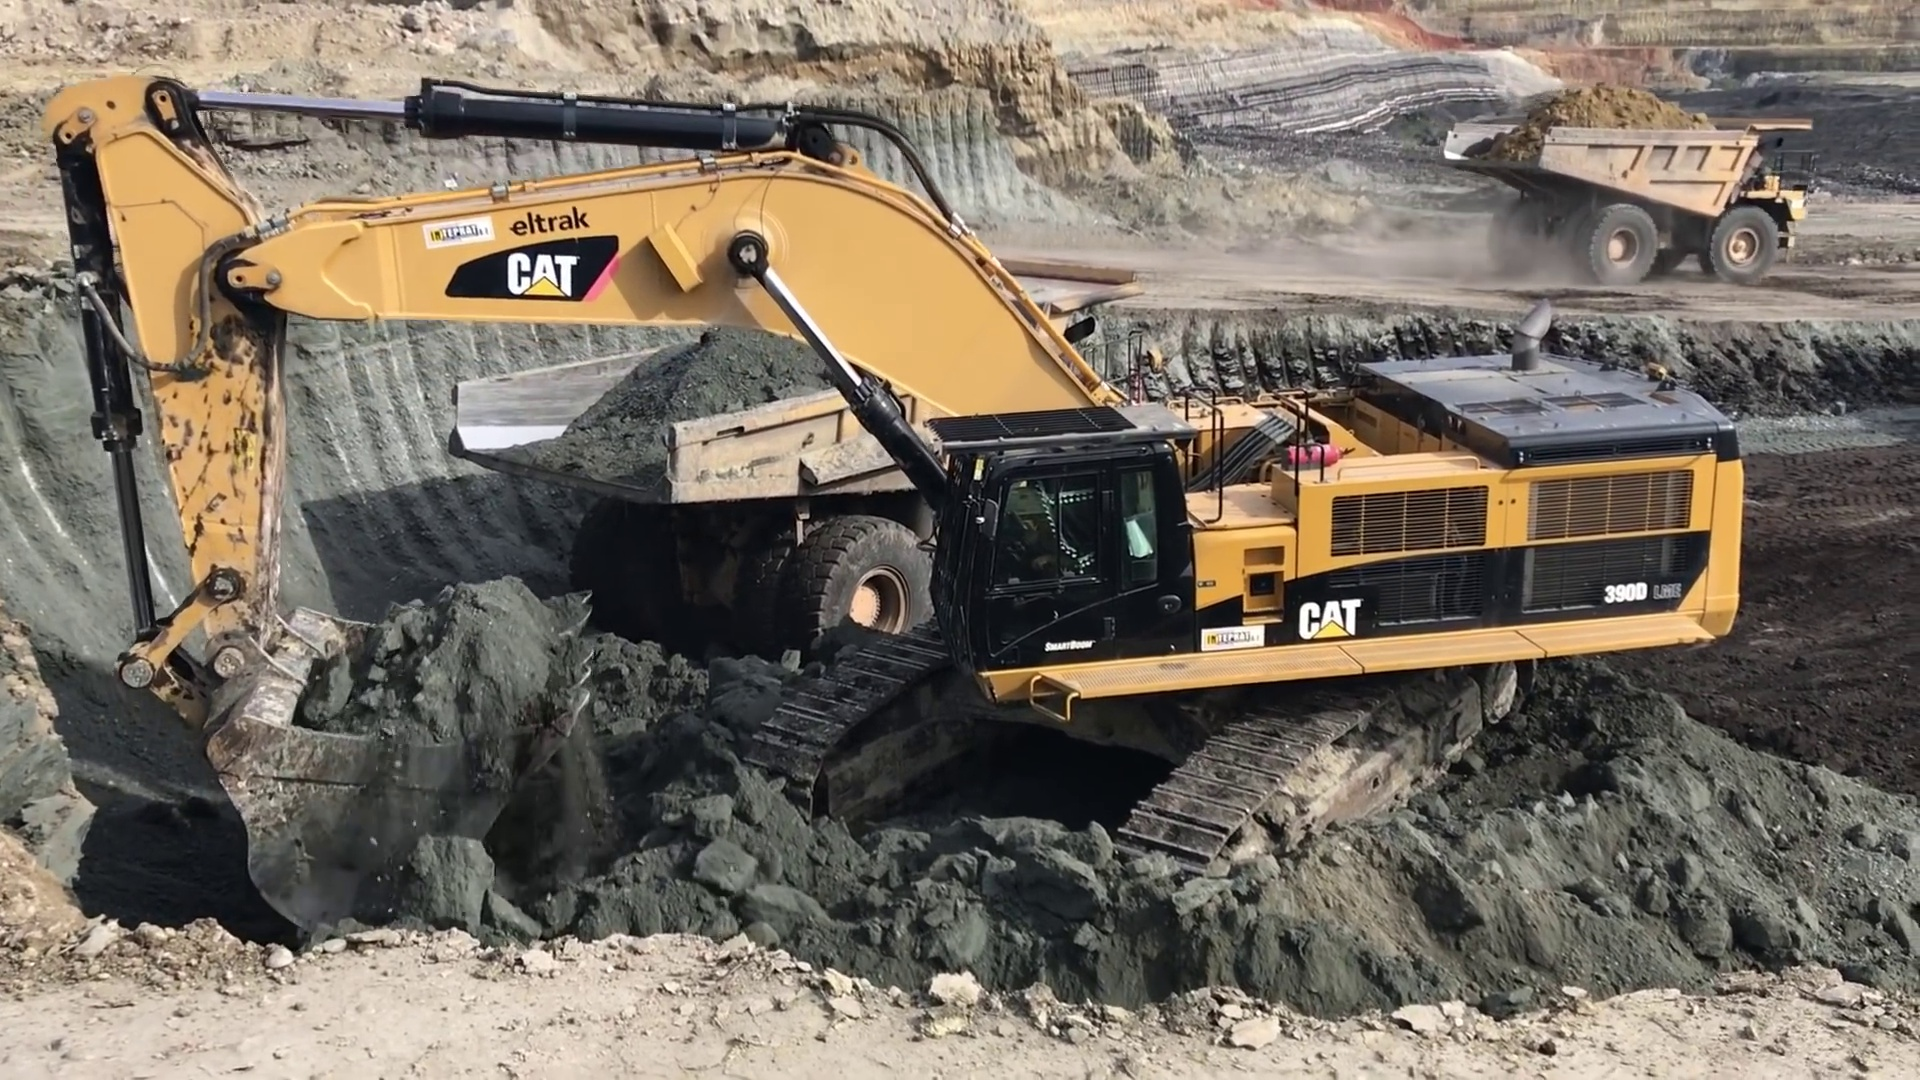dumper: (444, 258, 1153, 655), (1443, 99, 1815, 295)
excavator: (46, 70, 1749, 968)
